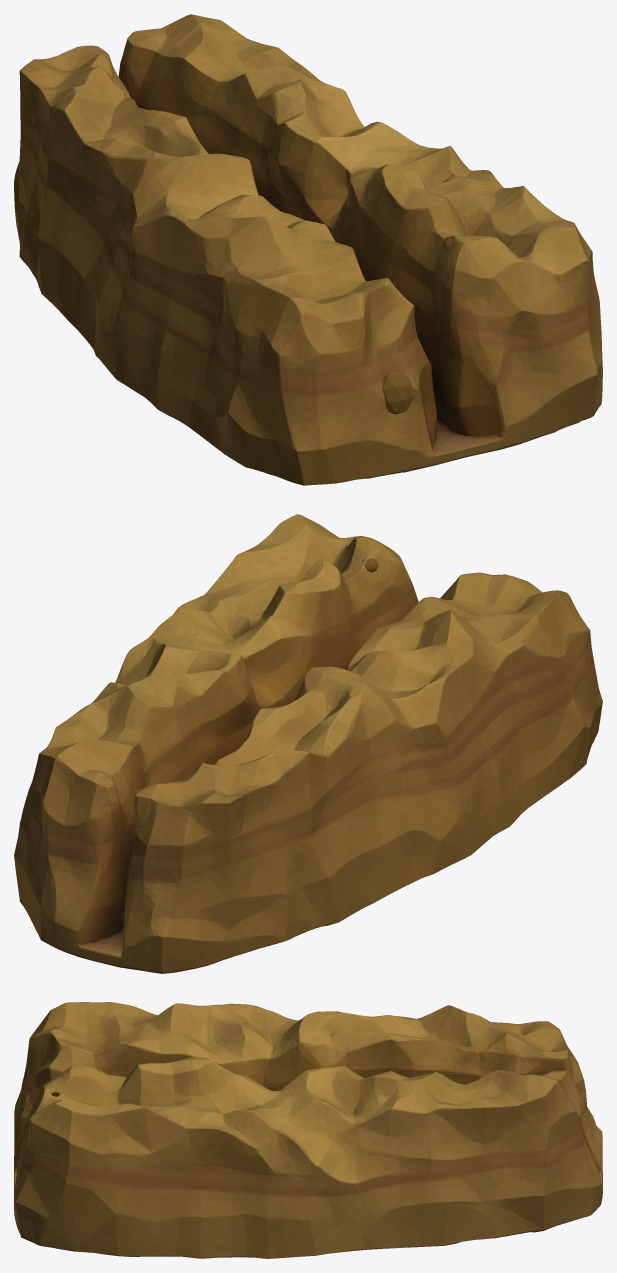
3 renders of one model, top to bottom at view 1: azimuth 30°, elevation 25°; view 2: azimuth 150°, elevation 25°; view 3: azimuth 270°, elevation 25°, orthographic. The views are drawn at different scales.
Parts seen in each view (by area): view 1: world; view 2: world; view 3: world.
Boxes of the visible parts, <box> form: world: <box>14,14,602,485</box>; world: <box>14,514,602,973</box>; world: <box>14,1002,602,1258</box>.
Bounding box in the file's own units: 15.78 × 7.9 × 28.
Materials: 1 (1 with a texture image).
